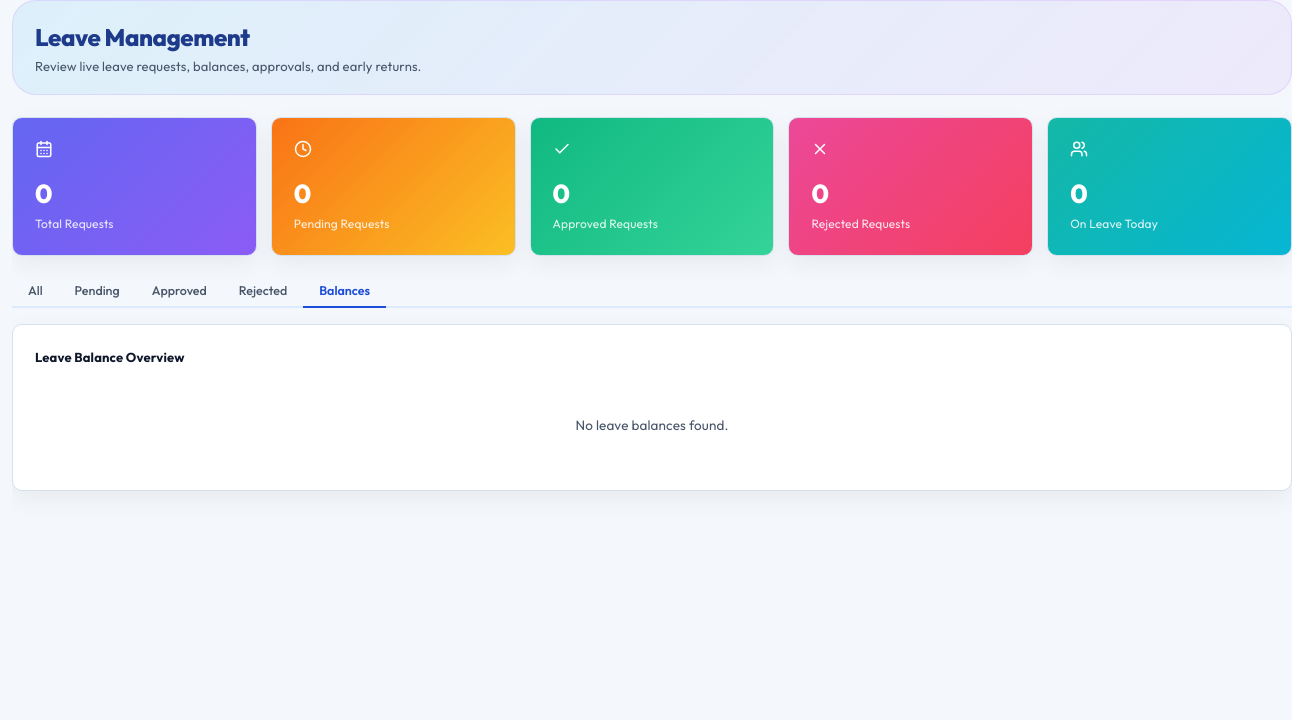
Test: Leave › formats leave dates and removes unsupported amount columns
Step 1. Click the button "All" → click(35, 291), box [12, 274, 59, 308]
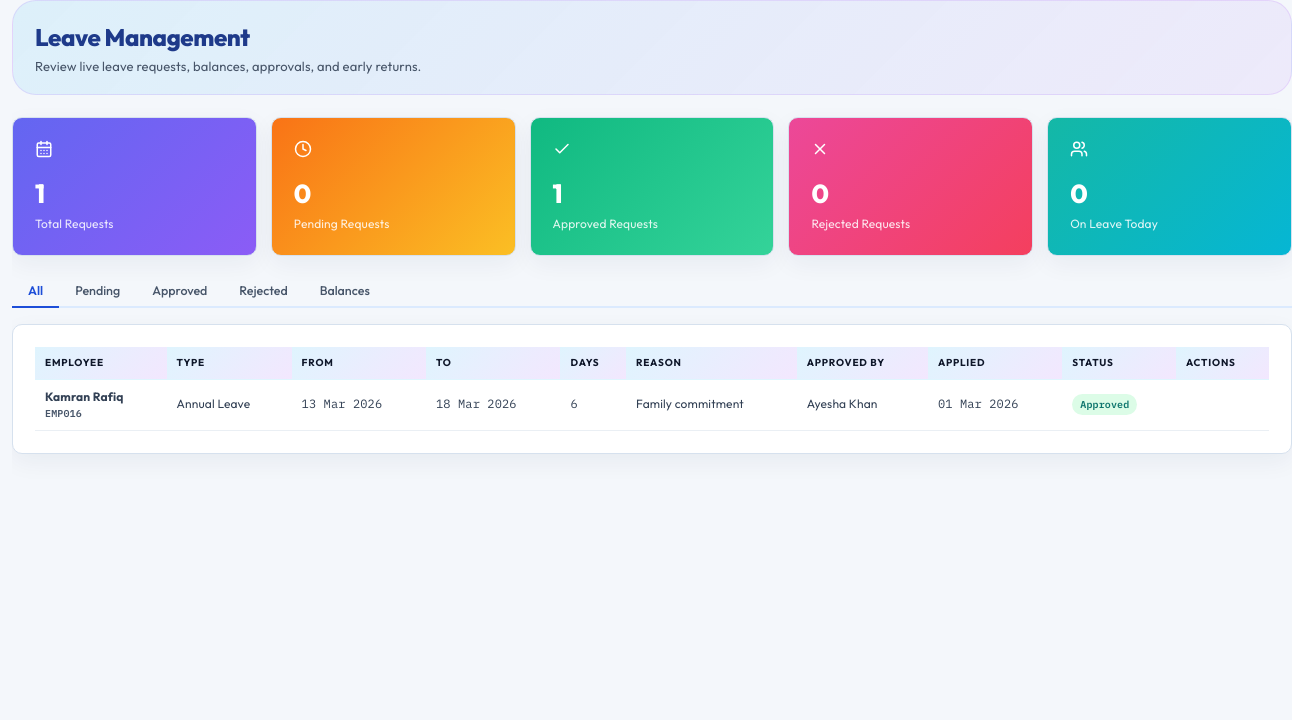
Expected: the text "Kamran Rafiq" is shown, [45, 389, 124, 404]
Expected: the text "13 Mar 2026" is shown, [292, 379, 426, 430]
Expected: the text "18 Mar 2026" is shown, [426, 379, 560, 430]
